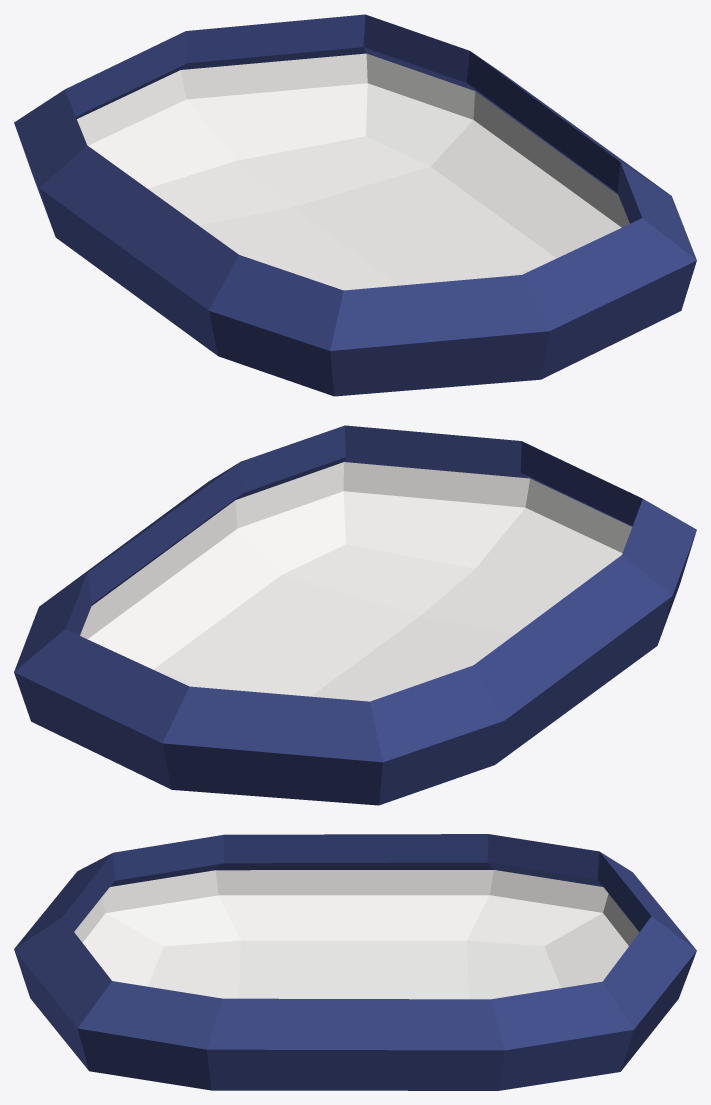
Rendered from DogBed_5.fbx.
3 renders of one model, top to bottom at view 1: azimuth 30°, elevation 25°; view 2: azimuth 150°, elevation 25°; view 3: azimuth 270°, elevation 25°, orthographic. The views are drawn at different scales.
Parts seen in each view (by area): view 1: DogBed_5; view 2: DogBed_5; view 3: DogBed_5.
Boxes of the visible parts, bbox=[...] form: DogBed_5: bbox=[14, 14, 696, 396]; DogBed_5: bbox=[14, 425, 696, 805]; DogBed_5: bbox=[14, 834, 696, 1090].
Size of the model in its own units: 92.06 by 133 by 25.16.
